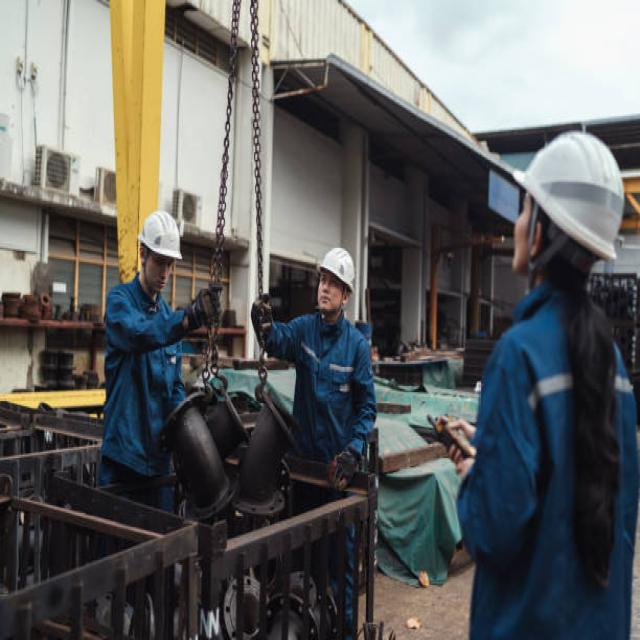Gloves: (174, 278, 228, 338), (246, 283, 286, 354), (323, 440, 370, 498)
Vest: (453, 272, 639, 640), (262, 304, 384, 640), (99, 270, 188, 480)
helmet: (509, 125, 625, 266), (135, 208, 186, 268), (314, 243, 357, 300)
person: (434, 127, 640, 640), (102, 209, 221, 640), (250, 245, 376, 640), (245, 232, 246, 233)
